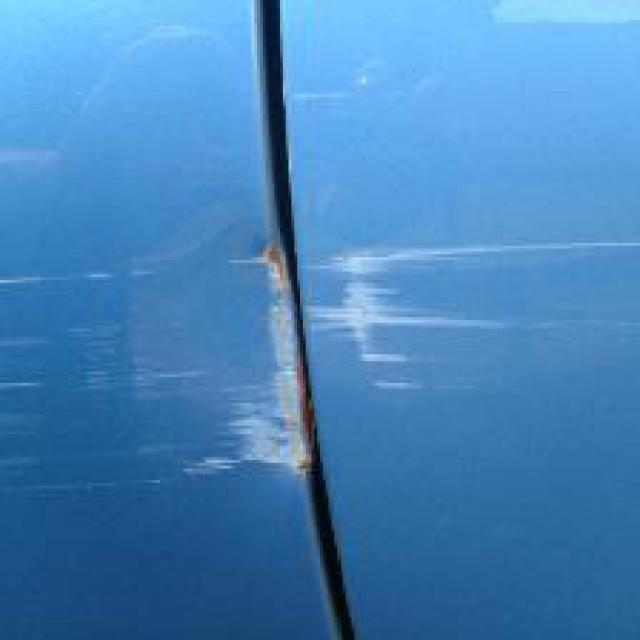damaged: (5, 246, 638, 488)
